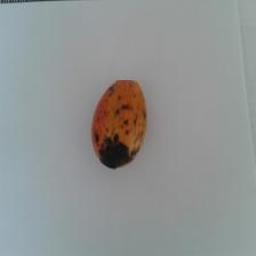Mango Rotten: (87, 81, 153, 190)
